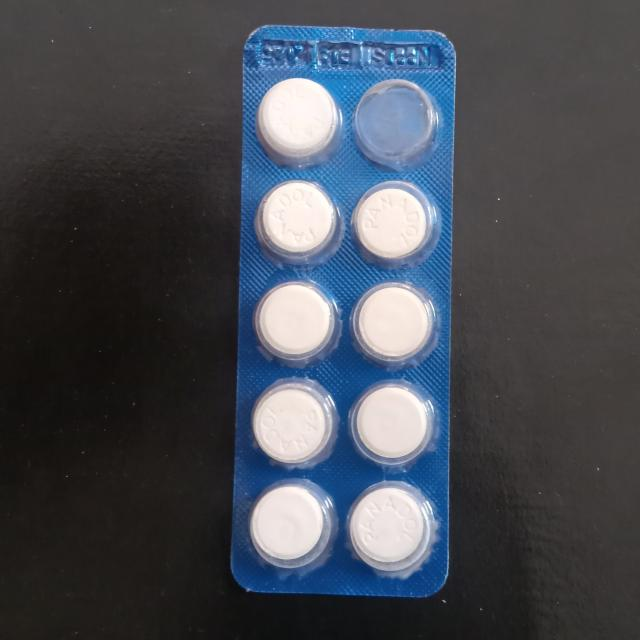defect: (349, 78, 444, 172)
